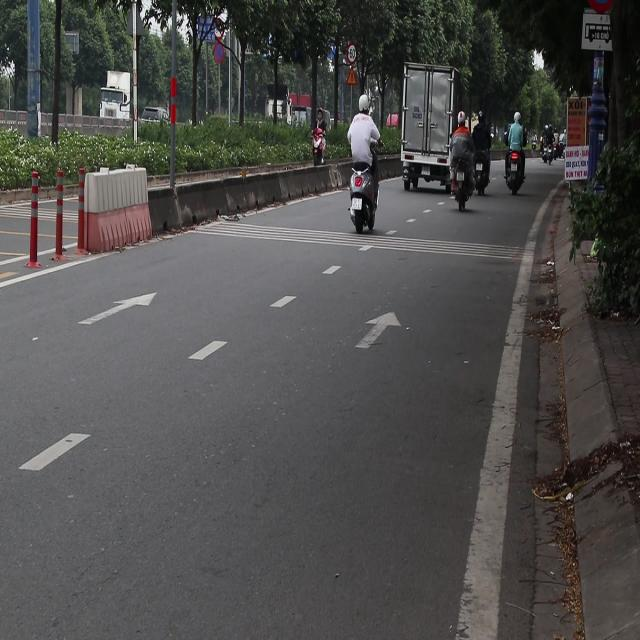car: (142, 106, 172, 125)
motorbike: (442, 136, 474, 209), (349, 159, 379, 233), (503, 147, 527, 197), (470, 139, 492, 191), (312, 127, 327, 166), (542, 129, 558, 164)
truck: (401, 64, 463, 195), (94, 64, 136, 147)
